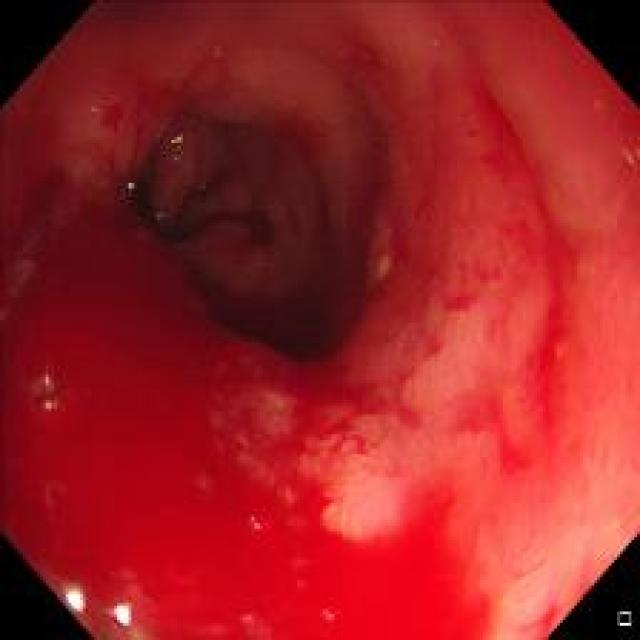bubbles: (19, 362, 70, 422)
color misalignment: (116, 172, 142, 200), (168, 134, 189, 164), (151, 206, 168, 232)
contrast: (134, 98, 375, 385)
specularity: (102, 596, 136, 626), (60, 578, 86, 616), (248, 514, 260, 531), (322, 610, 336, 622)
